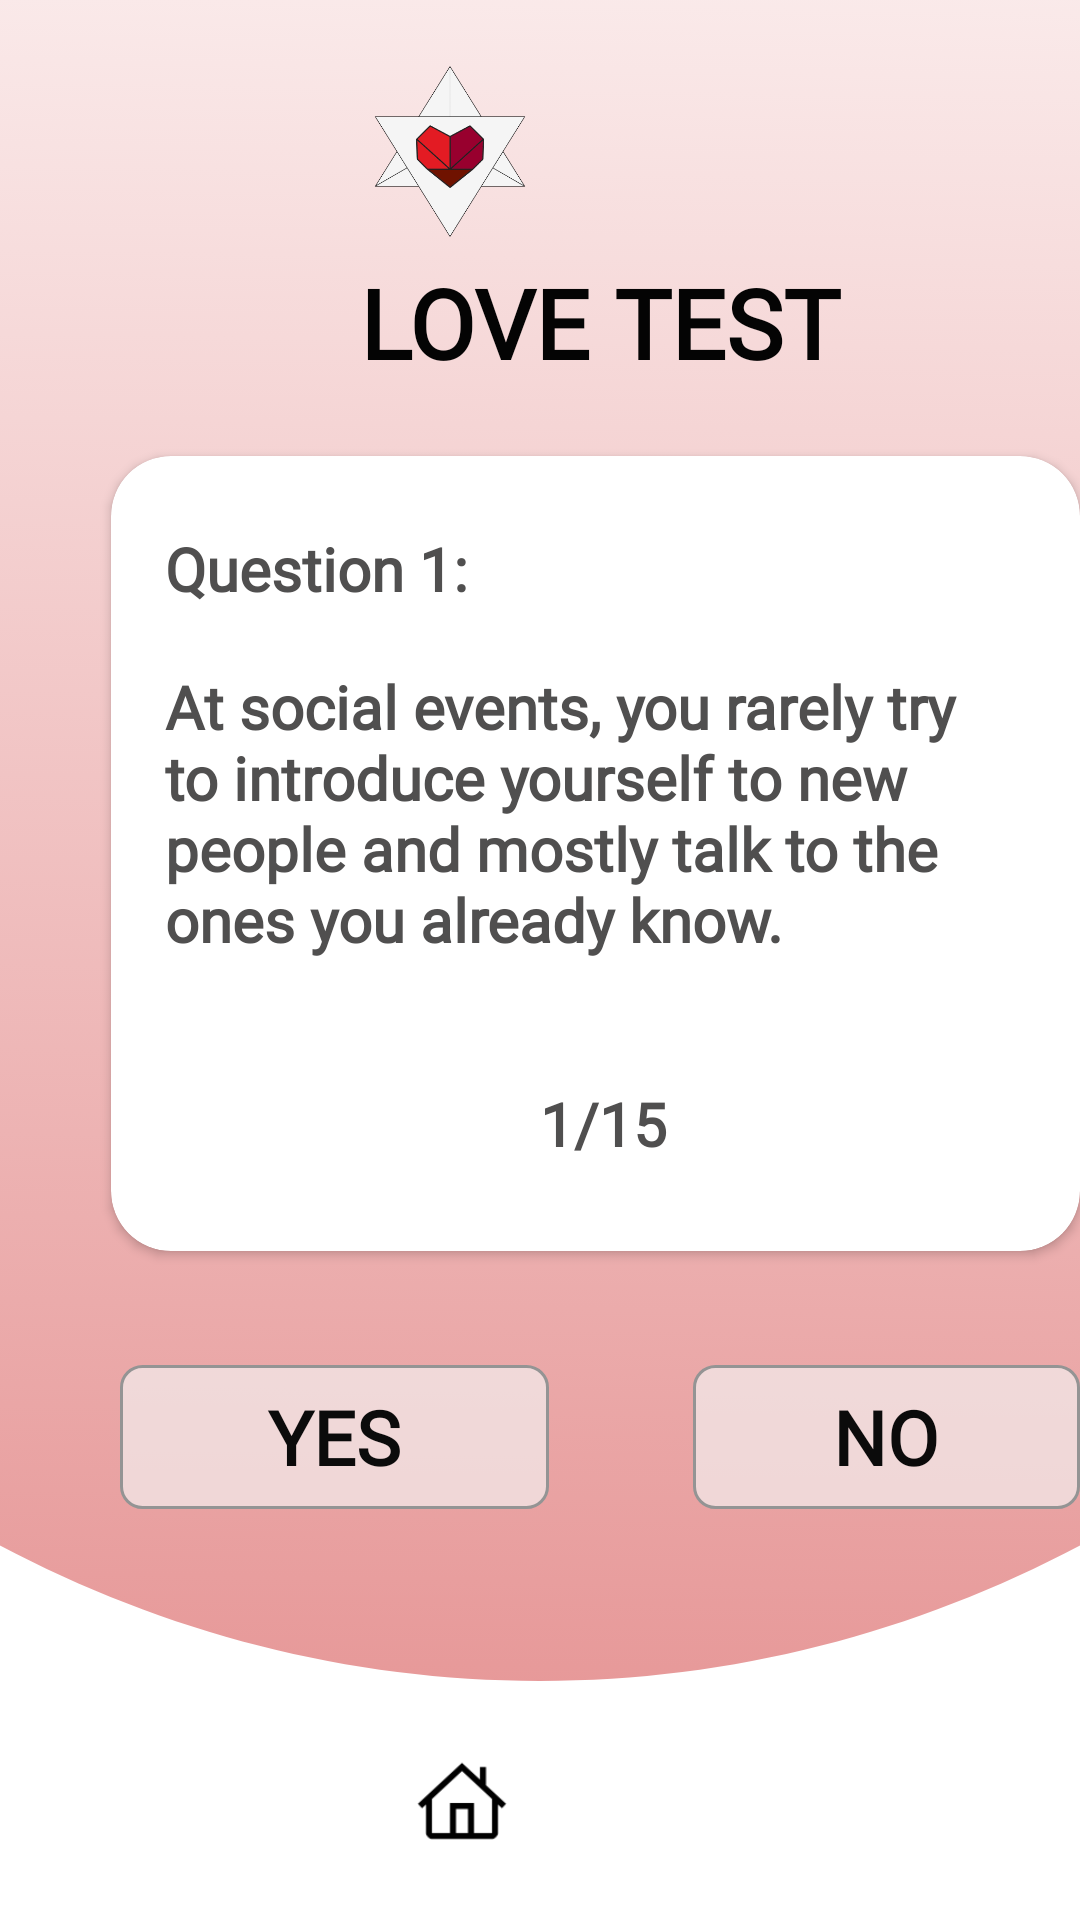

Icon click points for this 1080×1920 phone screenshot, format (x=x, y=y):
homeicon: (x=462, y=1801)
